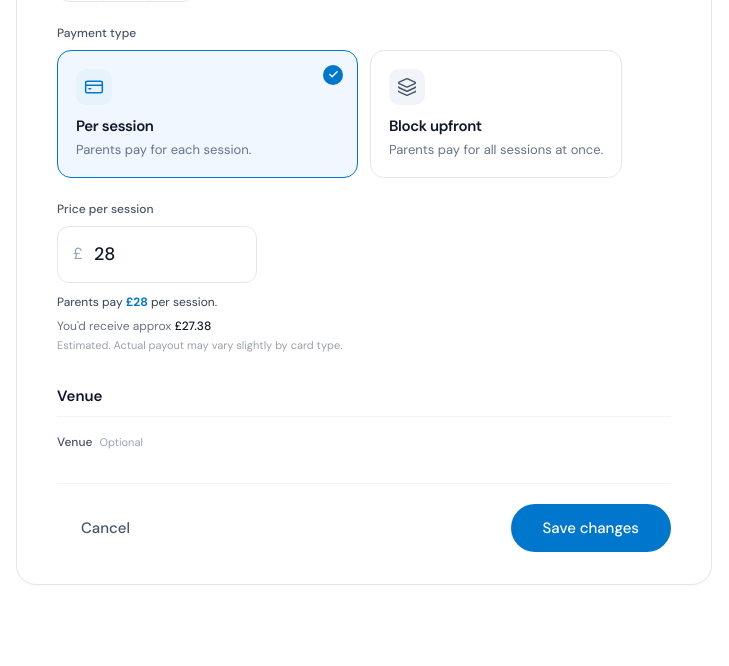
Test: EditProgramme — 409 conflict handling (UX-19) › falls back to the error constant when the 409 carries no message
(page scrolled)
Click the button "Save changes" at x=591, y=528, box [510,504,671,552]
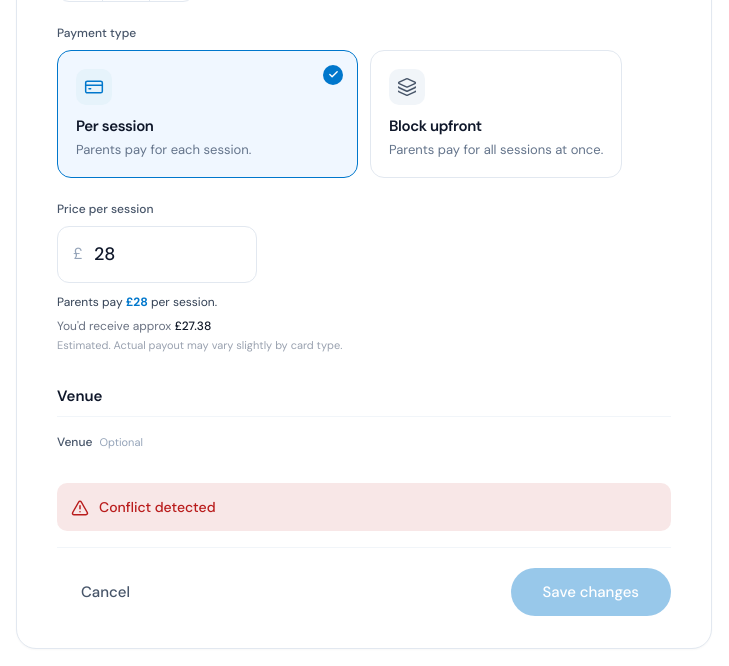
Expected: the text "Conflict detected" is shown, [99,497,216,517]
